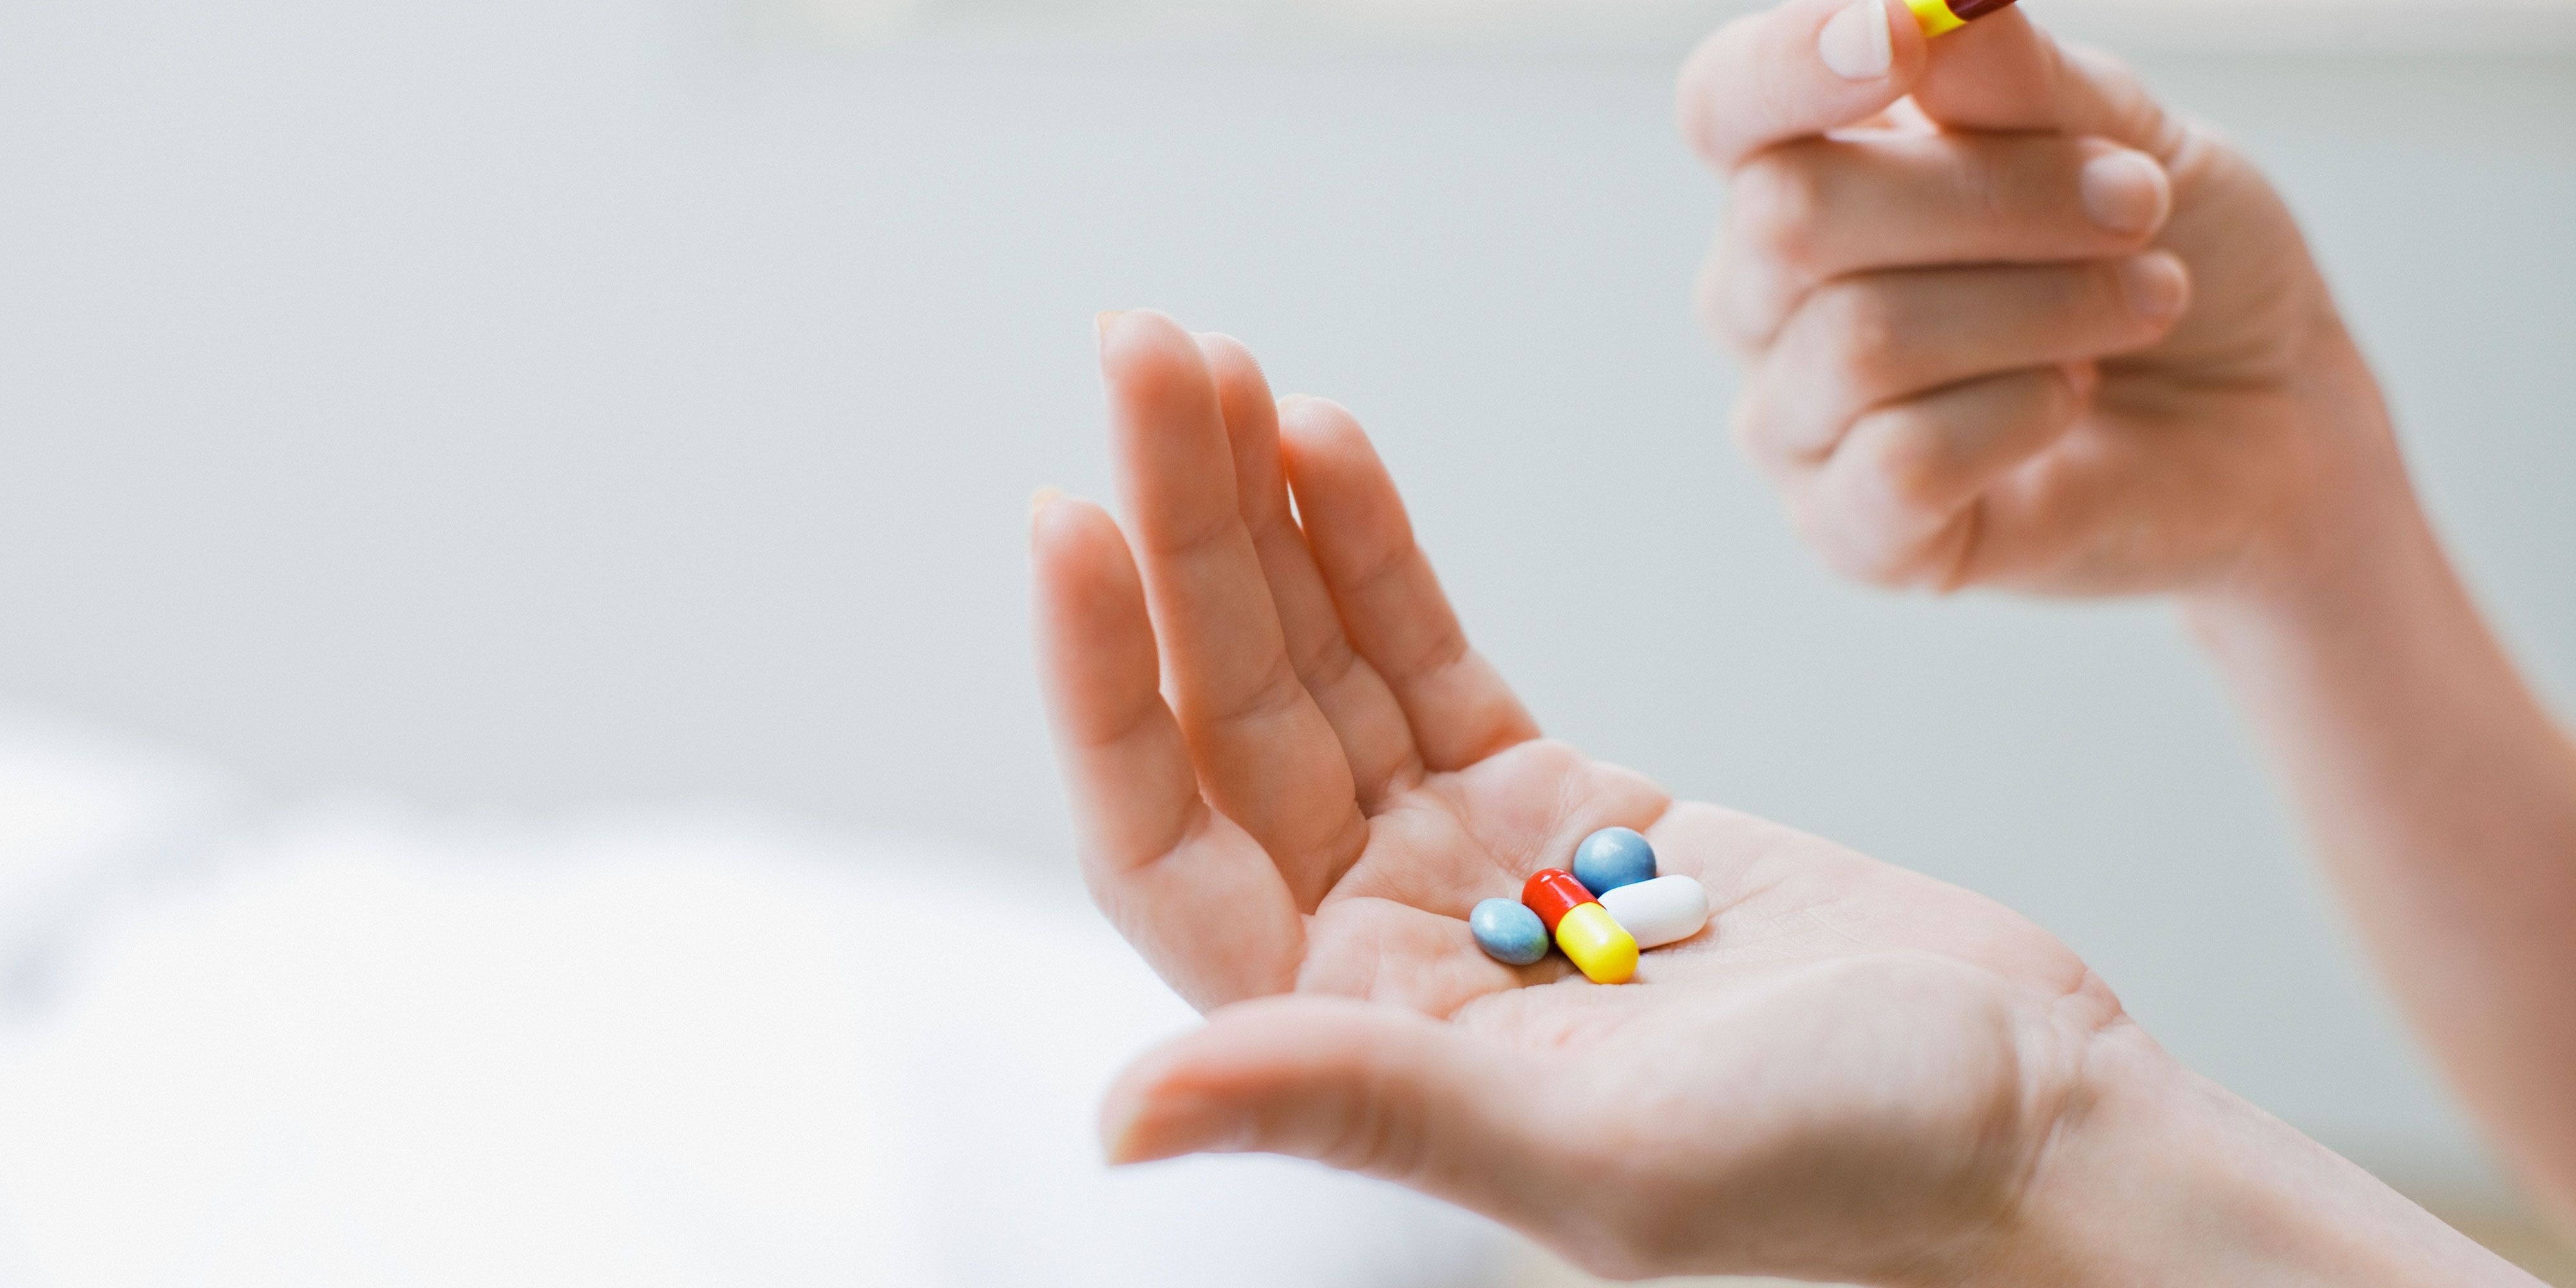pills: (1503, 843, 1631, 991), (1585, 867, 1704, 963), (1452, 884, 1548, 994), (1557, 815, 1656, 907)
